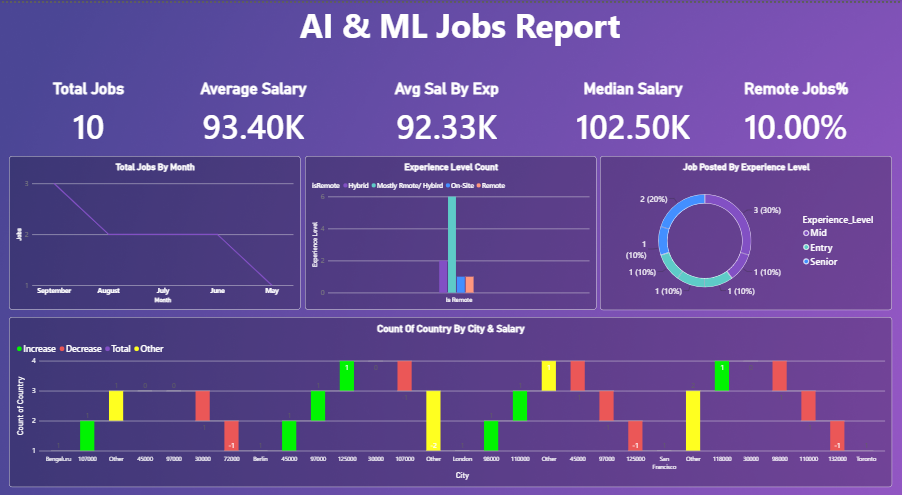

The page's visual inventory and layout, read from the dashboard file:
{"tool":"powerbi","page":{"name":"Overview","canvas":[2200,1200],"ordinal":0},"visuals":[{"type":"textbox","box":[646.3,0,951.2,114.6],"z":0},{"type":"cardVisual","title":"Total Jobs","fields":{"Data":["All_Measures.Total_Jobs"]},"box":[75.6,185.4,281,166.8],"z":1000},{"type":"cardVisual","title":"Average Salary","fields":{"Data":["All_Measures.Averagesalary"]},"box":[478,185.4,281,166.8],"z":2000},{"type":"cardVisual","title":"Median Salary","fields":{"Data":["All_Measures.Median_salary"]},"box":[1382.9,185.4,322.7,166.8],"z":3000},{"type":"cardVisual","title":"Remote Jobs%","fields":{"Data":["All_Measures.Remote_Job_Percent"]},"box":[1780.5,185.4,322.7,166.8],"z":4000},{"type":"cardVisual","title":"Avg Sal By Exp","fields":{"Data":["All_Measures.Average_Salary_By_Exper"]},"box":[929.3,185.4,320.5,166.8],"z":5000},{"type":"lineChart","title":"Total Jobs By Month","fields":{"Category":["Dim_Date.MonthName"],"Y":["All_Measures.Total_Jobs"]},"box":[22,373.2,711.2,375.4],"z":6000},{"type":"clusteredColumnChart","title":"Experience Level Count","fields":{"Series":["Fact_Jobs.isRemote"],"Y":["CountNonNull(Fact_Jobs.Experience_Level)"]},"box":[743.9,373.2,711.2,375.4],"z":7000},{"type":"donutChart","title":"Job Posted By Experience Level","fields":{"Category":["Fact_Jobs.Experience_Level"],"Series":["Fact_Jobs.isRemote"],"Y":["All_Measures.Total_Jobs"]},"box":[1463.4,373.2,712.2,375.6],"z":8000},{"type":"waterfallChart","title":"Count Of Country By City & Salary","fields":{"Breakdown":["Fact_Jobs.Salary_USD"],"Category":["Dim_Locations.City"],"Y":["CountNonNull(Dim_Locations.Country)"]},"box":[22,765.9,2153.7,414.6],"z":9000}]}

Visuals, with their boxes in screenshot pixels (x1, y1, x2, y2), scaled from the page's 2200x1200 canvas onto the 902x495 screenshot:
textbox: crop(265, 0, 655, 47)
"Total Jobs" cardVisual: crop(31, 76, 146, 145)
"Average Salary" cardVisual: crop(196, 76, 311, 145)
"Median Salary" cardVisual: crop(567, 76, 699, 145)
"Remote Jobs%" cardVisual: crop(730, 76, 862, 145)
"Avg Sal By Exp" cardVisual: crop(381, 76, 512, 145)
"Total Jobs By Month" lineChart: crop(9, 154, 301, 309)
"Experience Level Count" clusteredColumnChart: crop(305, 154, 597, 309)
"Job Posted By Experience Level" donutChart: crop(600, 154, 892, 309)
"Count Of Country By City & Salary" waterfallChart: crop(9, 316, 892, 487)
